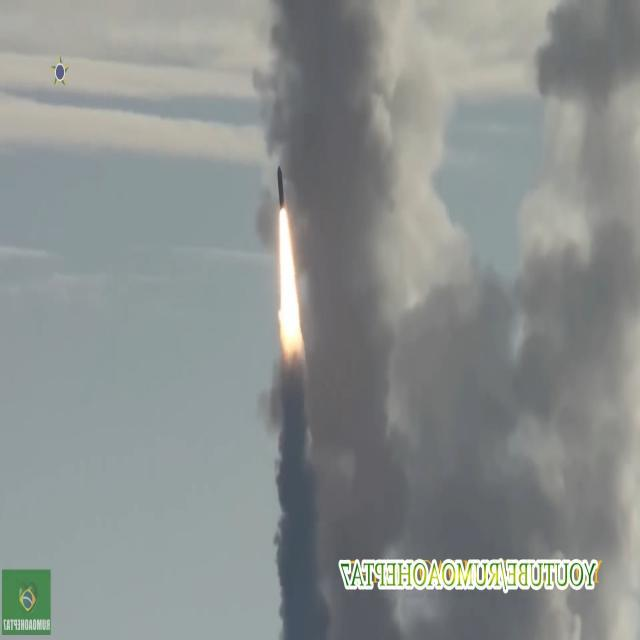missile: (273, 160, 289, 220)
